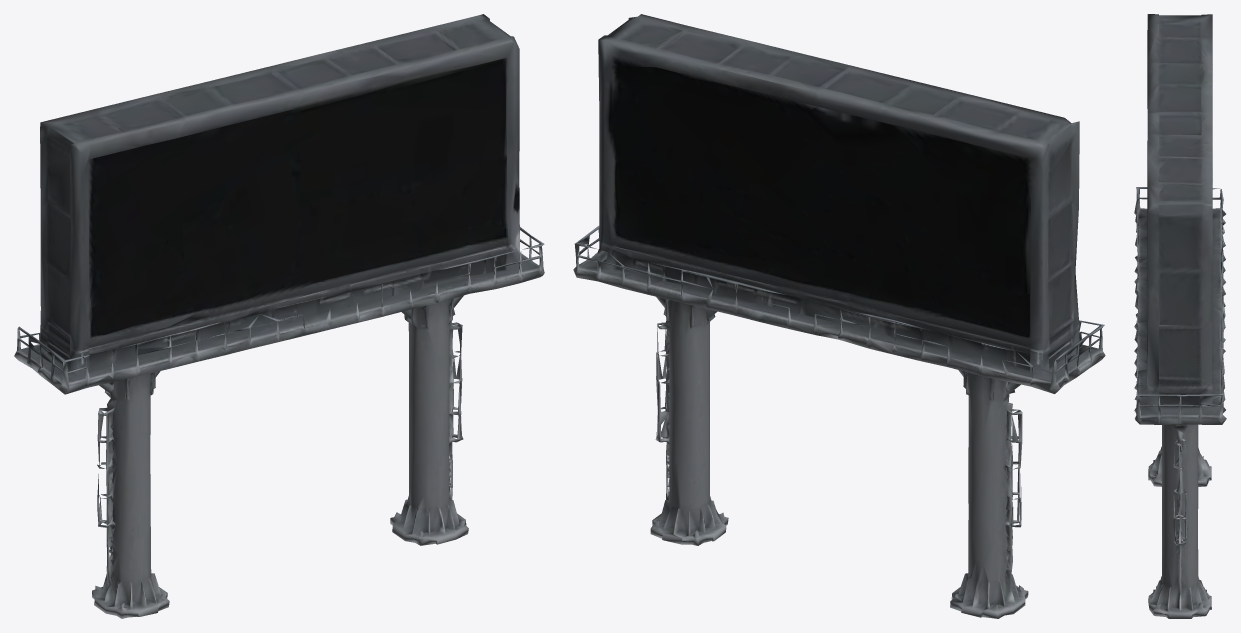
Rendered from scoreboard.glb.
3 renders of one model, left to right at view 1: azimuth 30°, elevation 25°; view 2: azimuth 150°, elevation 25°; view 3: azimuth 270°, elevation 25°, orthographic. The views are drawn at different scales.
Parts seen in each view (by area): view 1: scoreboard; view 2: scoreboard; view 3: scoreboard.
Part boxes in pixels (x1=…): scoreboard: x1=14, y1=14, x2=544, y2=618; scoreboard: x1=573, y1=14, x2=1105, y2=618; scoreboard: x1=1134, y1=14, x2=1226, y2=618.
Bounding box in the file's own units: 26 × 24.77 × 4.83.
Materials: 1 (1 with a texture image).
